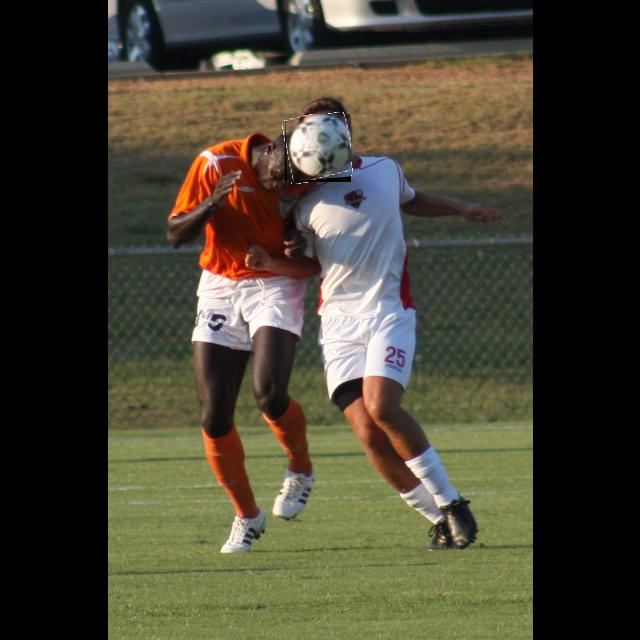Football: (285, 114, 351, 182)
